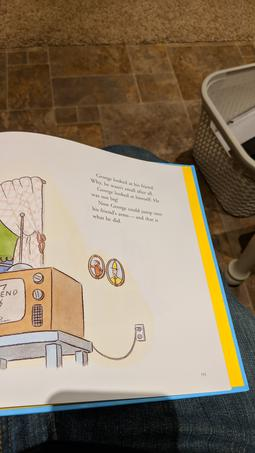text block: (80, 169, 167, 229)
